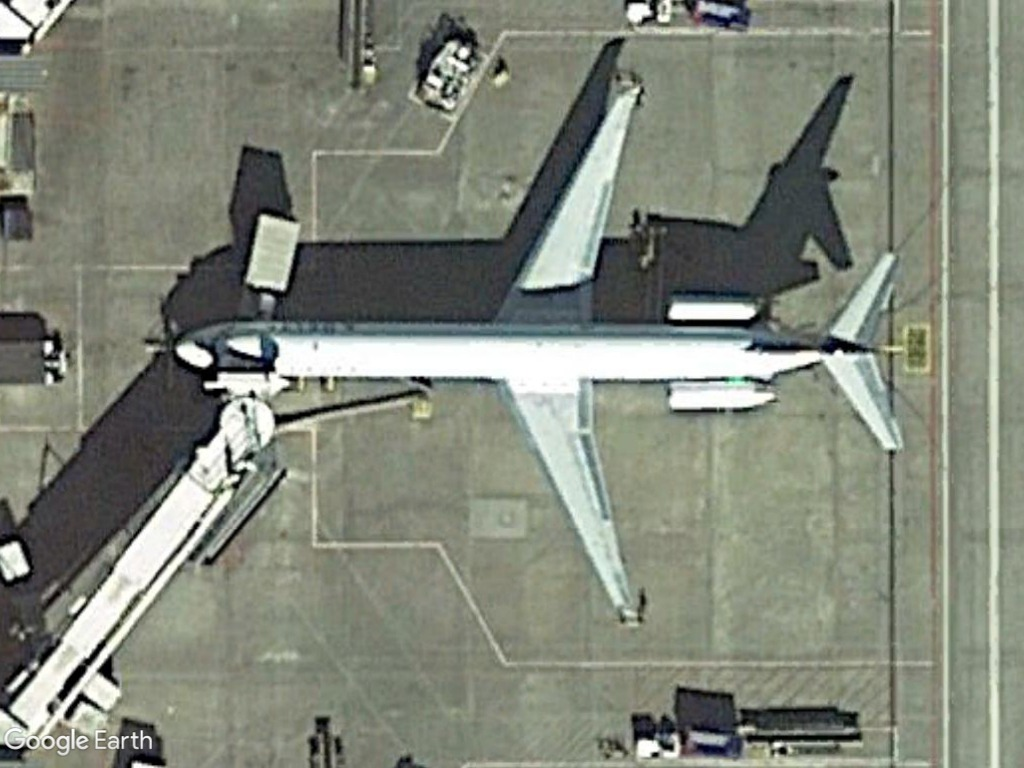chartered: (171, 76, 906, 636)
